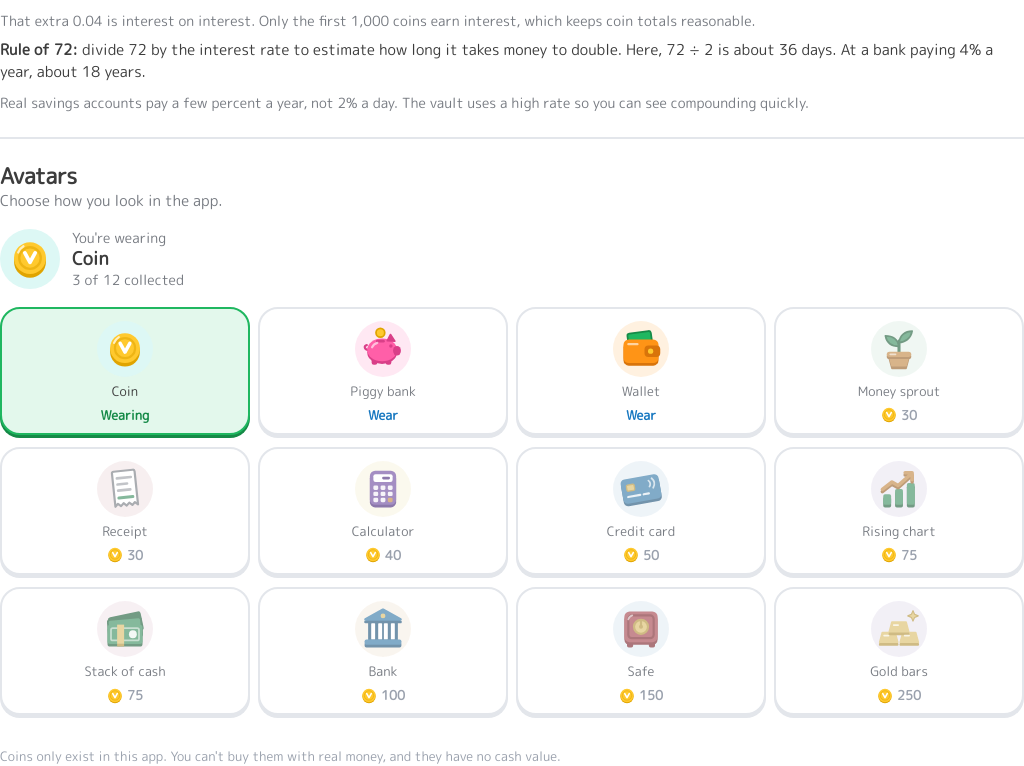
it: ShopScreen › is honest about how far off a pricey avatar is
(page scrolled)
Step 1. Click the button with aria-label "Gold bars, 250 coins, 225 short" → {"x": 899, "y": 651}, box [774,587,1023,715]
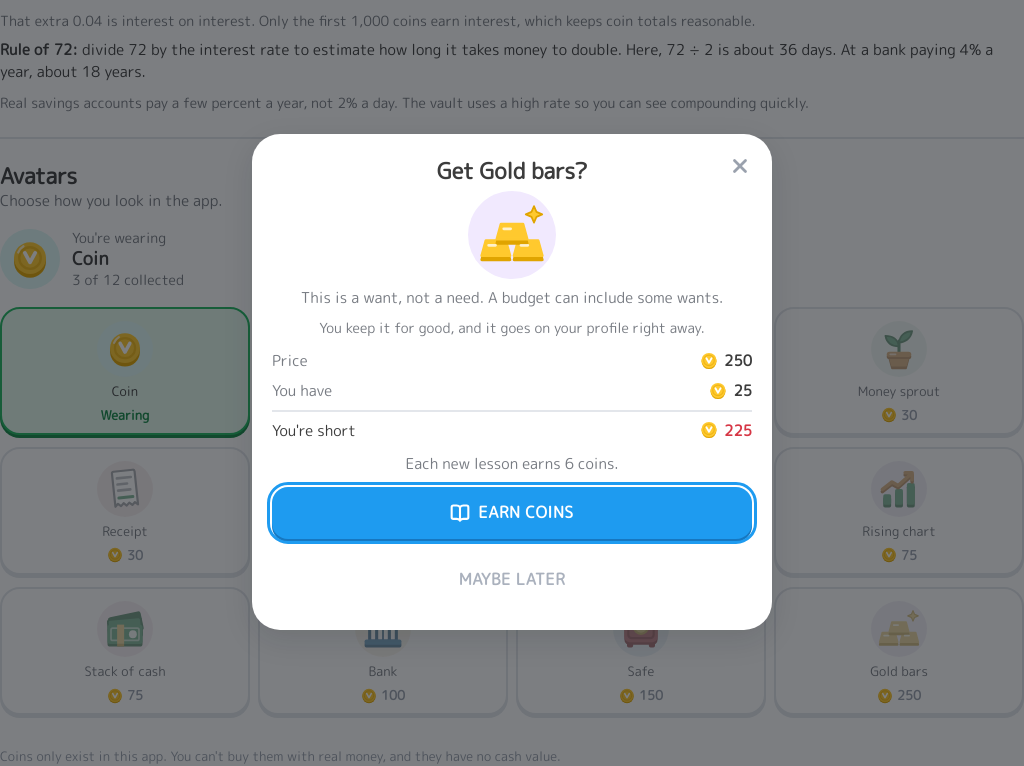
Check: the button "Earn coins" is shown, box [272,487,752,539]
